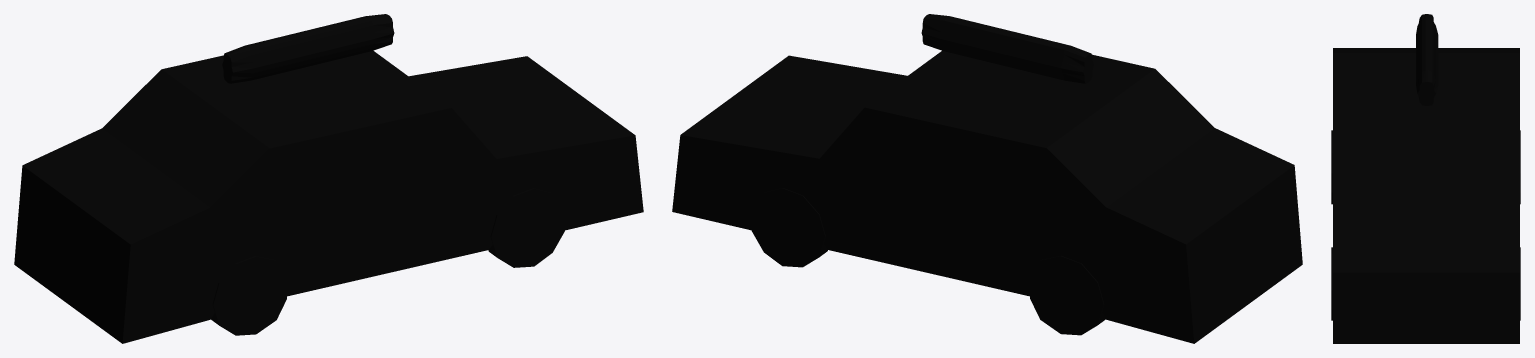
File: Policecar.glb
The picture shows the model from 3 angles, left to right: view 1: azimuth 30°, elevation 25°; view 2: azimuth 150°, elevation 25°; view 3: azimuth 270°, elevation 25°; orthographic projection. The views are drawn at different scales.
Parts seen in each view (by area): view 1: Policecar; view 2: Policecar; view 3: Policecar.
Part boxes in pixels (x1,y1,x2,y2): Policecar: (14,14,643,343); Policecar: (672,14,1302,343); Policecar: (1331,14,1520,343).
Bounding box in the file's own units: 87.02 × 37.72 × 31.69.
1 material, 1 textured.
